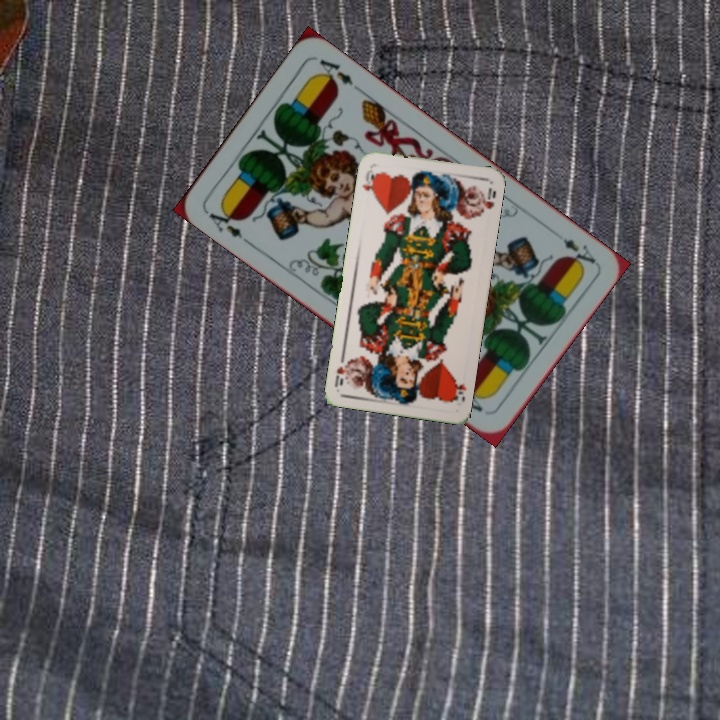EA: (202, 202, 245, 242), (558, 234, 599, 271)
HO: (358, 165, 380, 198), (448, 376, 469, 405)
